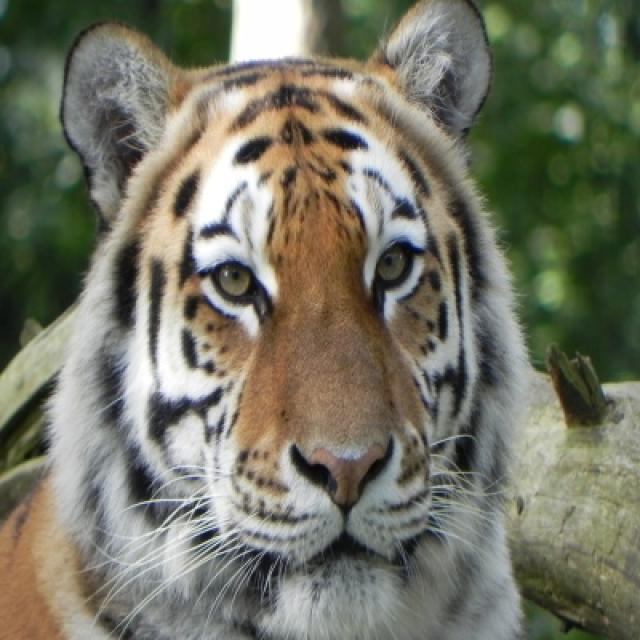Tiger: (0, 0, 526, 638)
